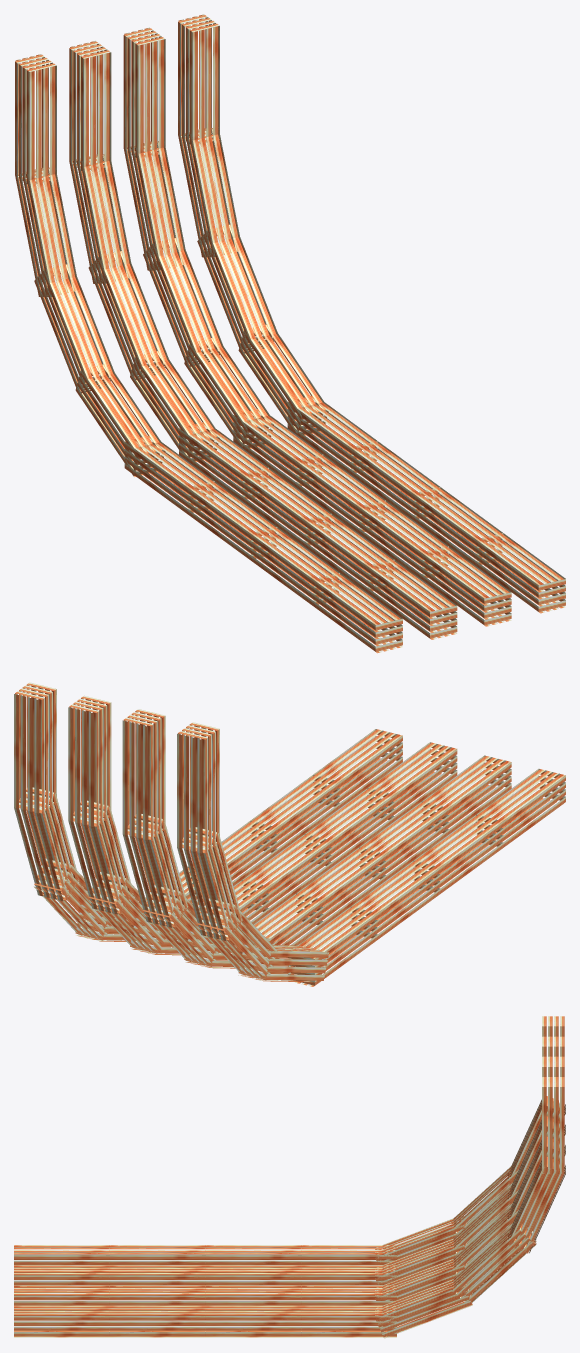
Rendered from continuous_casting_machine_metal.obj.
3 renders of one model, top to bottom at view 1: azimuth 30°, elevation 25°; view 2: azimuth 150°, elevation 25°; view 3: azimuth 270°, elevation 25°, orthographic. The views are drawn at different scales.
Parts seen in each view (by area): view 1: mesh; view 2: mesh; view 3: mesh.
Boxes of the visible parts, x1,y1,x2,y2 form: mesh: (15, 14, 565, 653); mesh: (14, 682, 565, 986); mesh: (14, 1016, 565, 1338).
Bounding box in the file's own units: 1.75 × 2.9 × 5.76.
